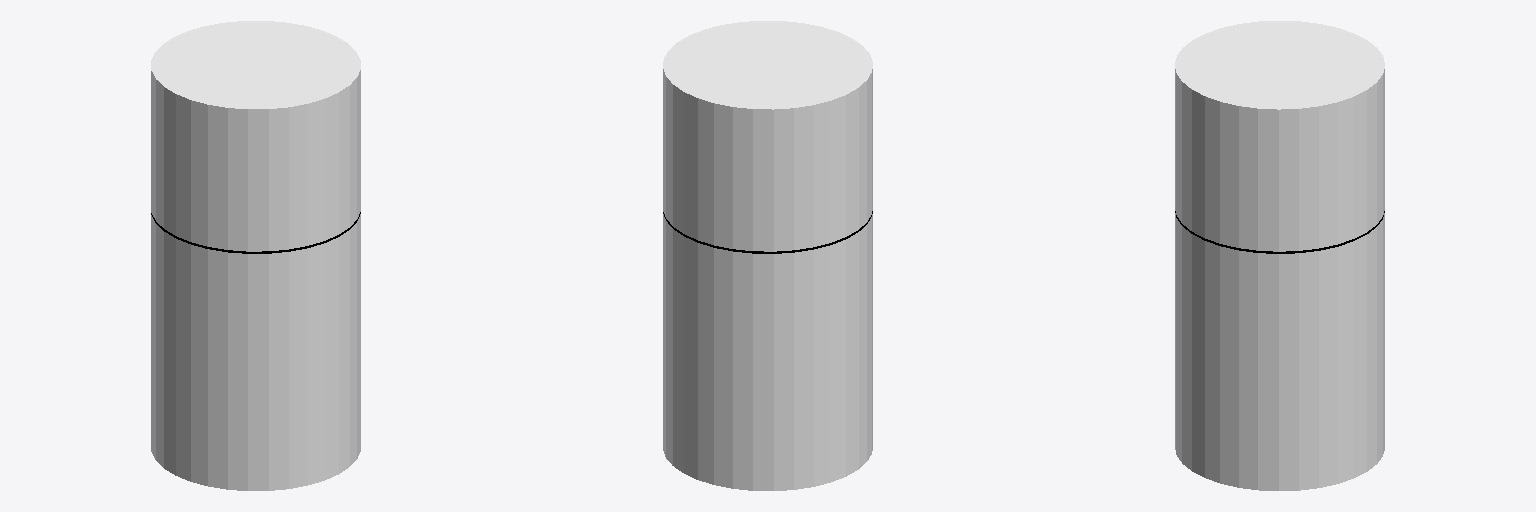
The picture shows the model from 3 angles: view 1: azimuth 30°, elevation 25°; view 2: azimuth 150°, elevation 25°; view 3: azimuth 270°, elevation 25°; orthographic projection.
Parts seen in each view (by area): view 1: Cylinder; view 2: Cylinder; view 3: Cylinder.
Part boxes in pixels (x1,y1,x2,y2): Cylinder: (151, 21, 360, 490); Cylinder: (663, 21, 872, 490); Cylinder: (1175, 21, 1384, 490).
Bounding box in the file's own units: 2 × 4 × 2.
1 materials, 1 textured.